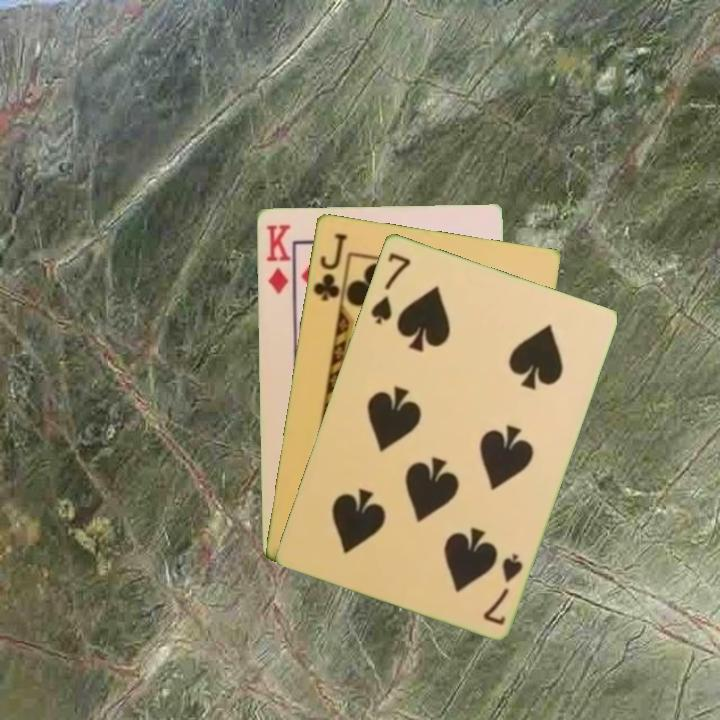7s: (366, 248, 414, 327), (479, 549, 526, 628)
Jc: (309, 229, 350, 303)
Kd: (262, 220, 293, 296)
